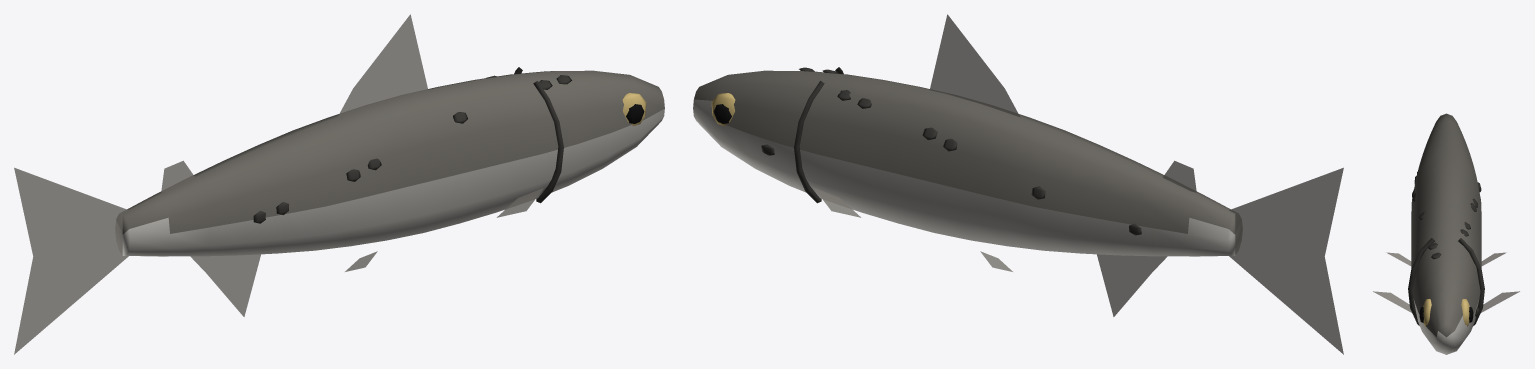
File: lake-ishkhan-shelf-1.glb
The picture shows the model from 3 angles, left to right: view 1: azimuth 30°, elevation 25°; view 2: azimuth 150°, elevation 25°; view 3: azimuth 270°, elevation 25°; orthographic projection. The views are drawn at different scales.
Parts seen in each view (by area): view 1: lake-ishkhan-shelf-1; view 2: lake-ishkhan-shelf-1; view 3: lake-ishkhan-shelf-1.
Part boxes in pixels (x1=…): lake-ishkhan-shelf-1: x1=14, y1=14, x2=664, y2=354; lake-ishkhan-shelf-1: x1=693, y1=14, x2=1343, y2=354; lake-ishkhan-shelf-1: x1=1373, y1=113, x2=1519, y2=354.
Size of the model in its own units: 0.5544 by 0.2161 by 0.1397.
